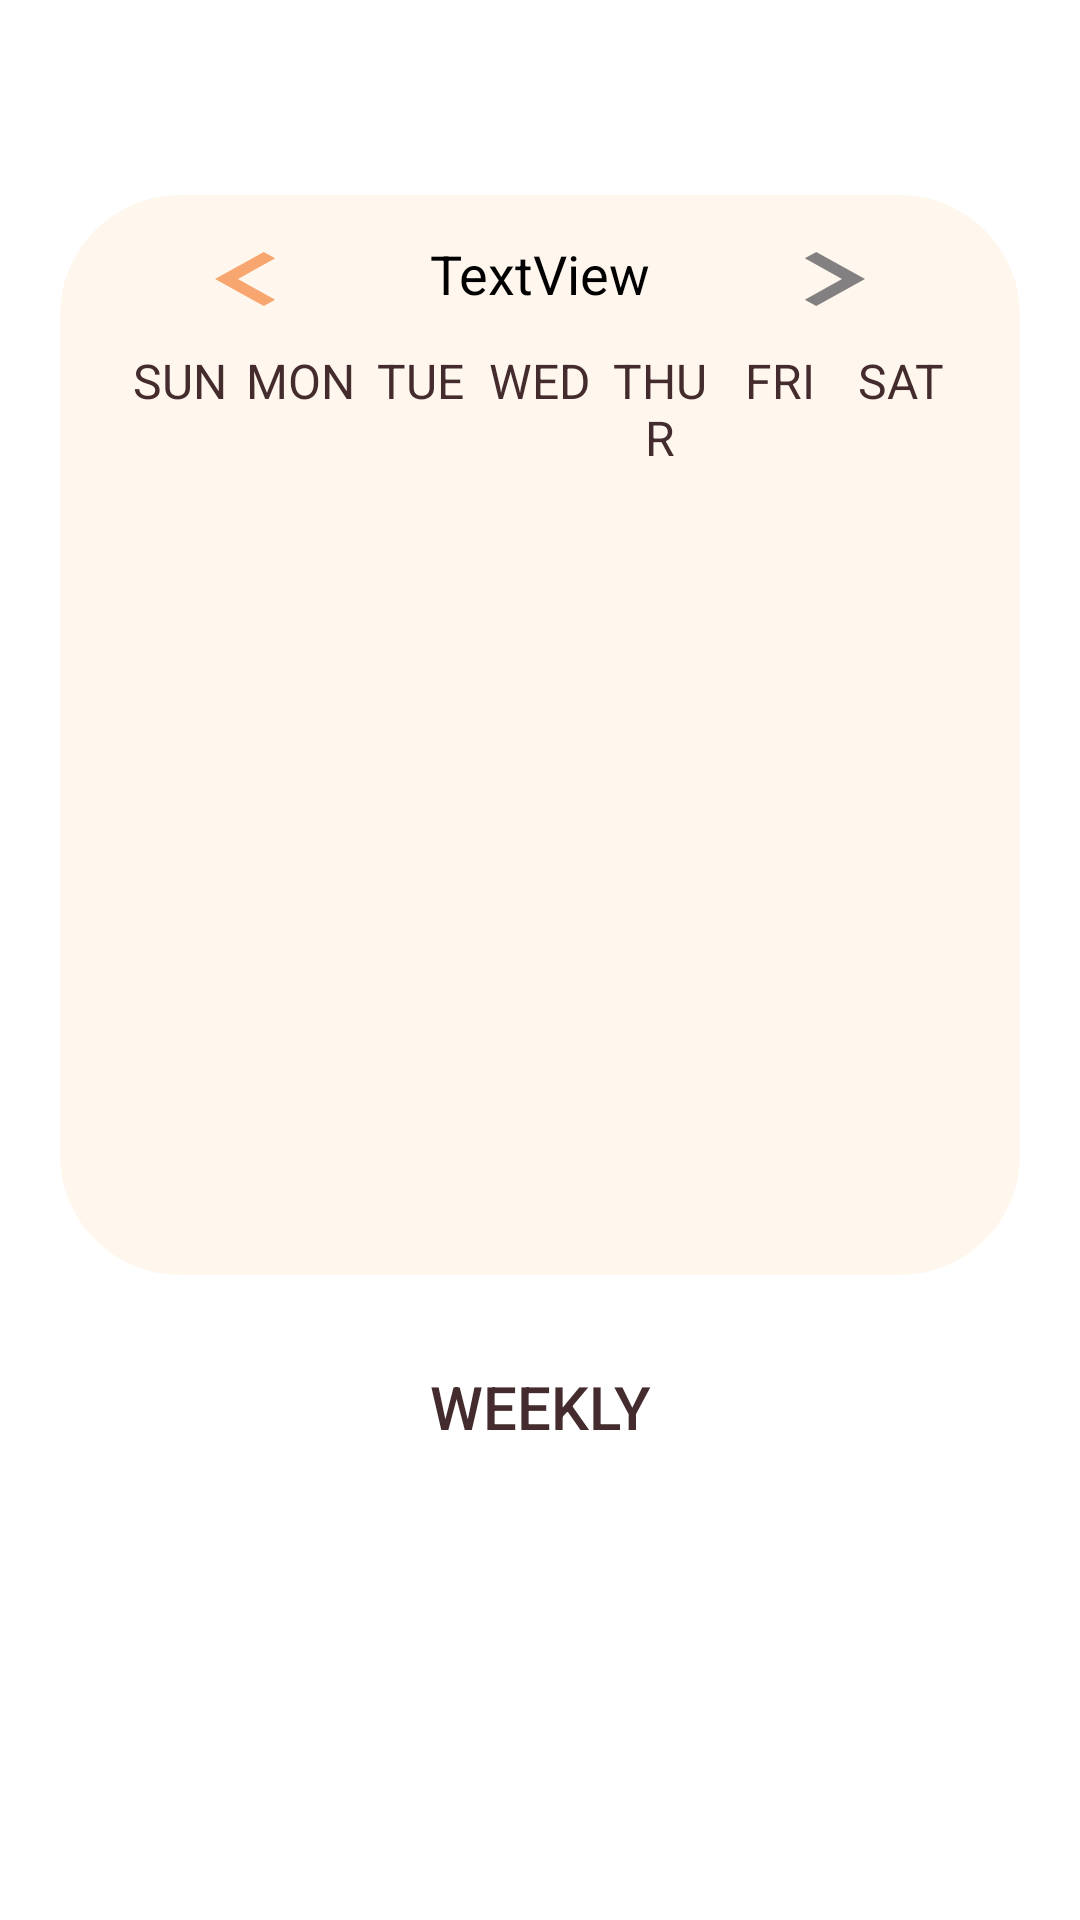

Icons on this 1080w x 1920h Android screen, each with the point to tap as (x=x, y=y):
keyboard arrow left: (x=245, y=279)
keyboard arrow right: (x=835, y=279)
